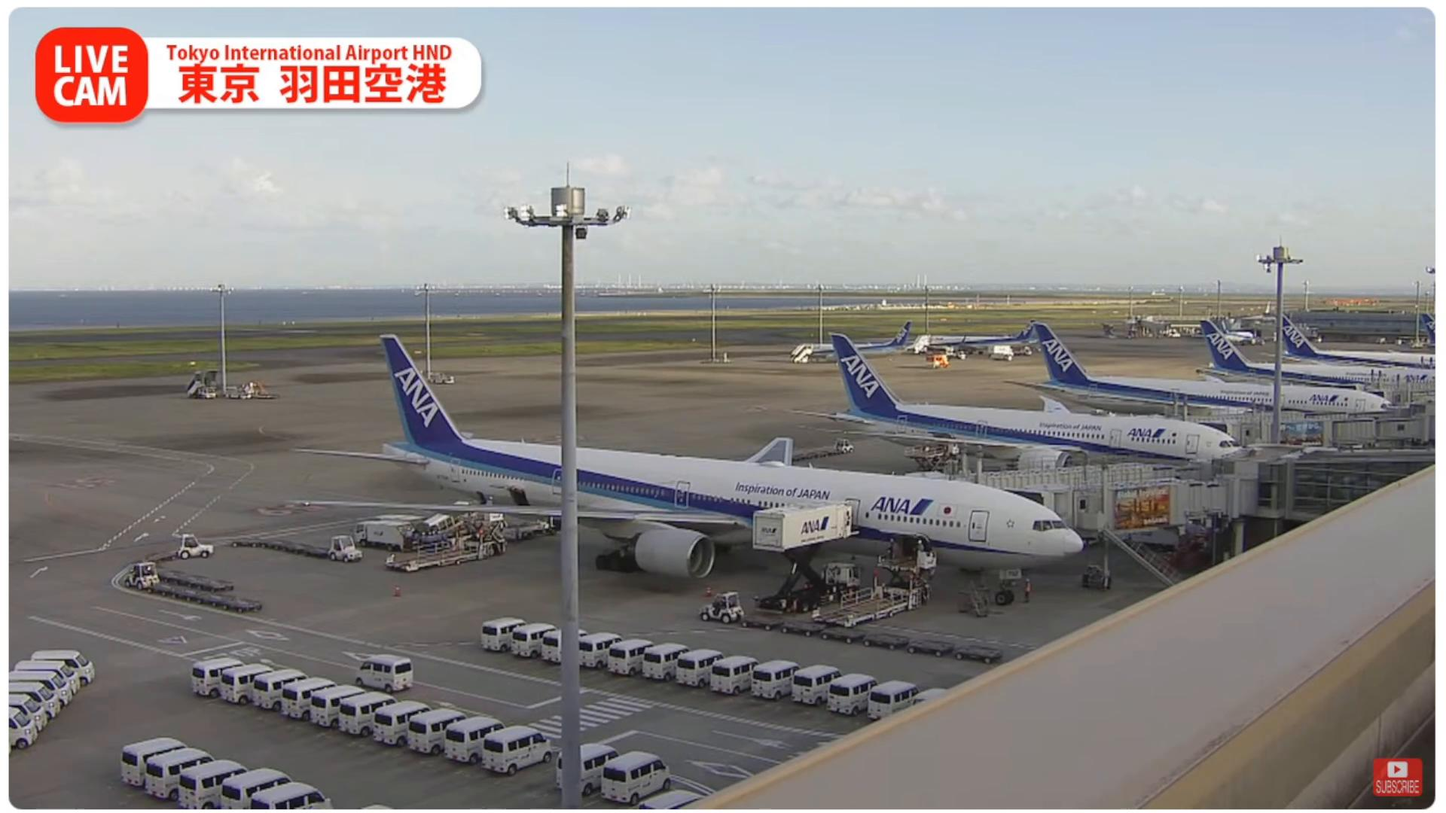Aerobridge: (990, 474, 1217, 523), (903, 458, 1204, 486)
Airplane: (297, 333, 1082, 582)
Baggage truck: (350, 518, 412, 549), (381, 512, 423, 541)
Catering: (751, 501, 860, 615)
Dolly: (741, 612, 1005, 663), (144, 549, 236, 590), (144, 582, 263, 612), (231, 537, 329, 561)
JCPL: (819, 550, 928, 632), (369, 528, 510, 572)
Skyloader: (420, 510, 487, 544)
Tractor: (699, 590, 747, 624), (123, 563, 161, 587), (179, 533, 214, 559), (330, 536, 362, 563)
Window: (1253, 443, 1435, 520)
